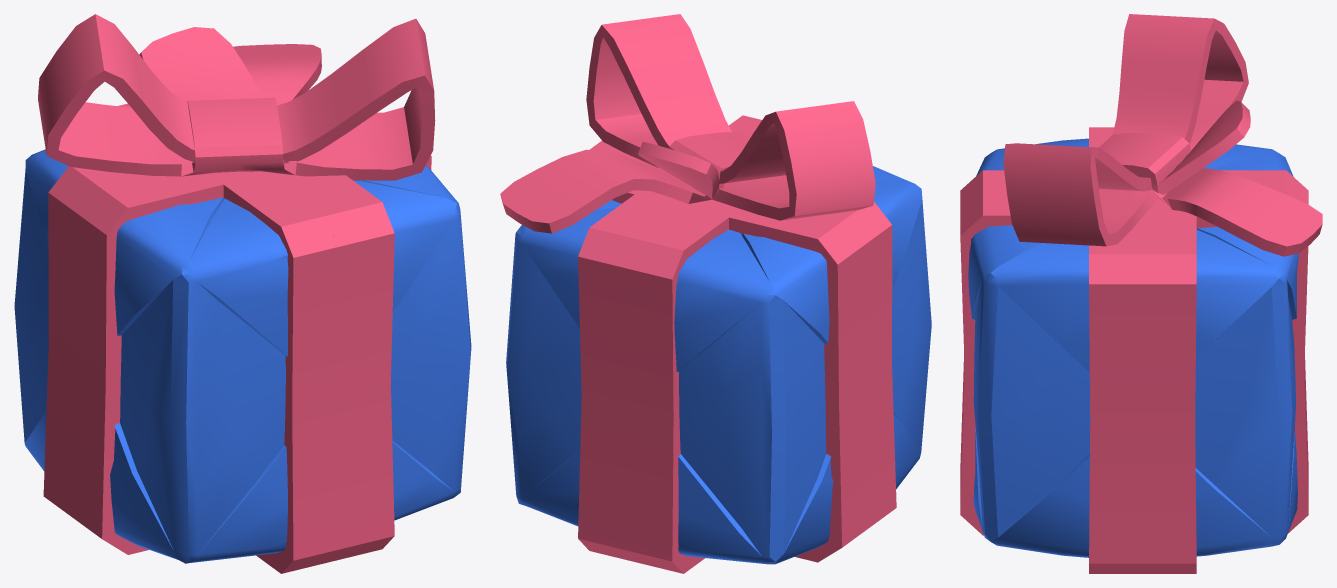
The model's file is gift3.fbx.
3 renders of one model, left to right at view 1: azimuth 30°, elevation 25°; view 2: azimuth 150°, elevation 25°; view 3: azimuth 270°, elevation 25°, orthographic. The views are drawn at different scales.
Visible parts, largest first — view 1: Cube.000, Cube.001; view 2: Cube.000, Cube.001; view 3: Cube.000, Cube.001.
Part boxes in pixels (x1,y1,x2,y2): Cube.000: (38, 14, 435, 573); Cube.001: (14, 149, 471, 563); Cube.000: (500, 14, 896, 573); Cube.001: (506, 166, 931, 564); Cube.000: (960, 14, 1322, 573); Cube.001: (968, 138, 1298, 557).
Size of the model in its own units: 359 by 478 by 353.
